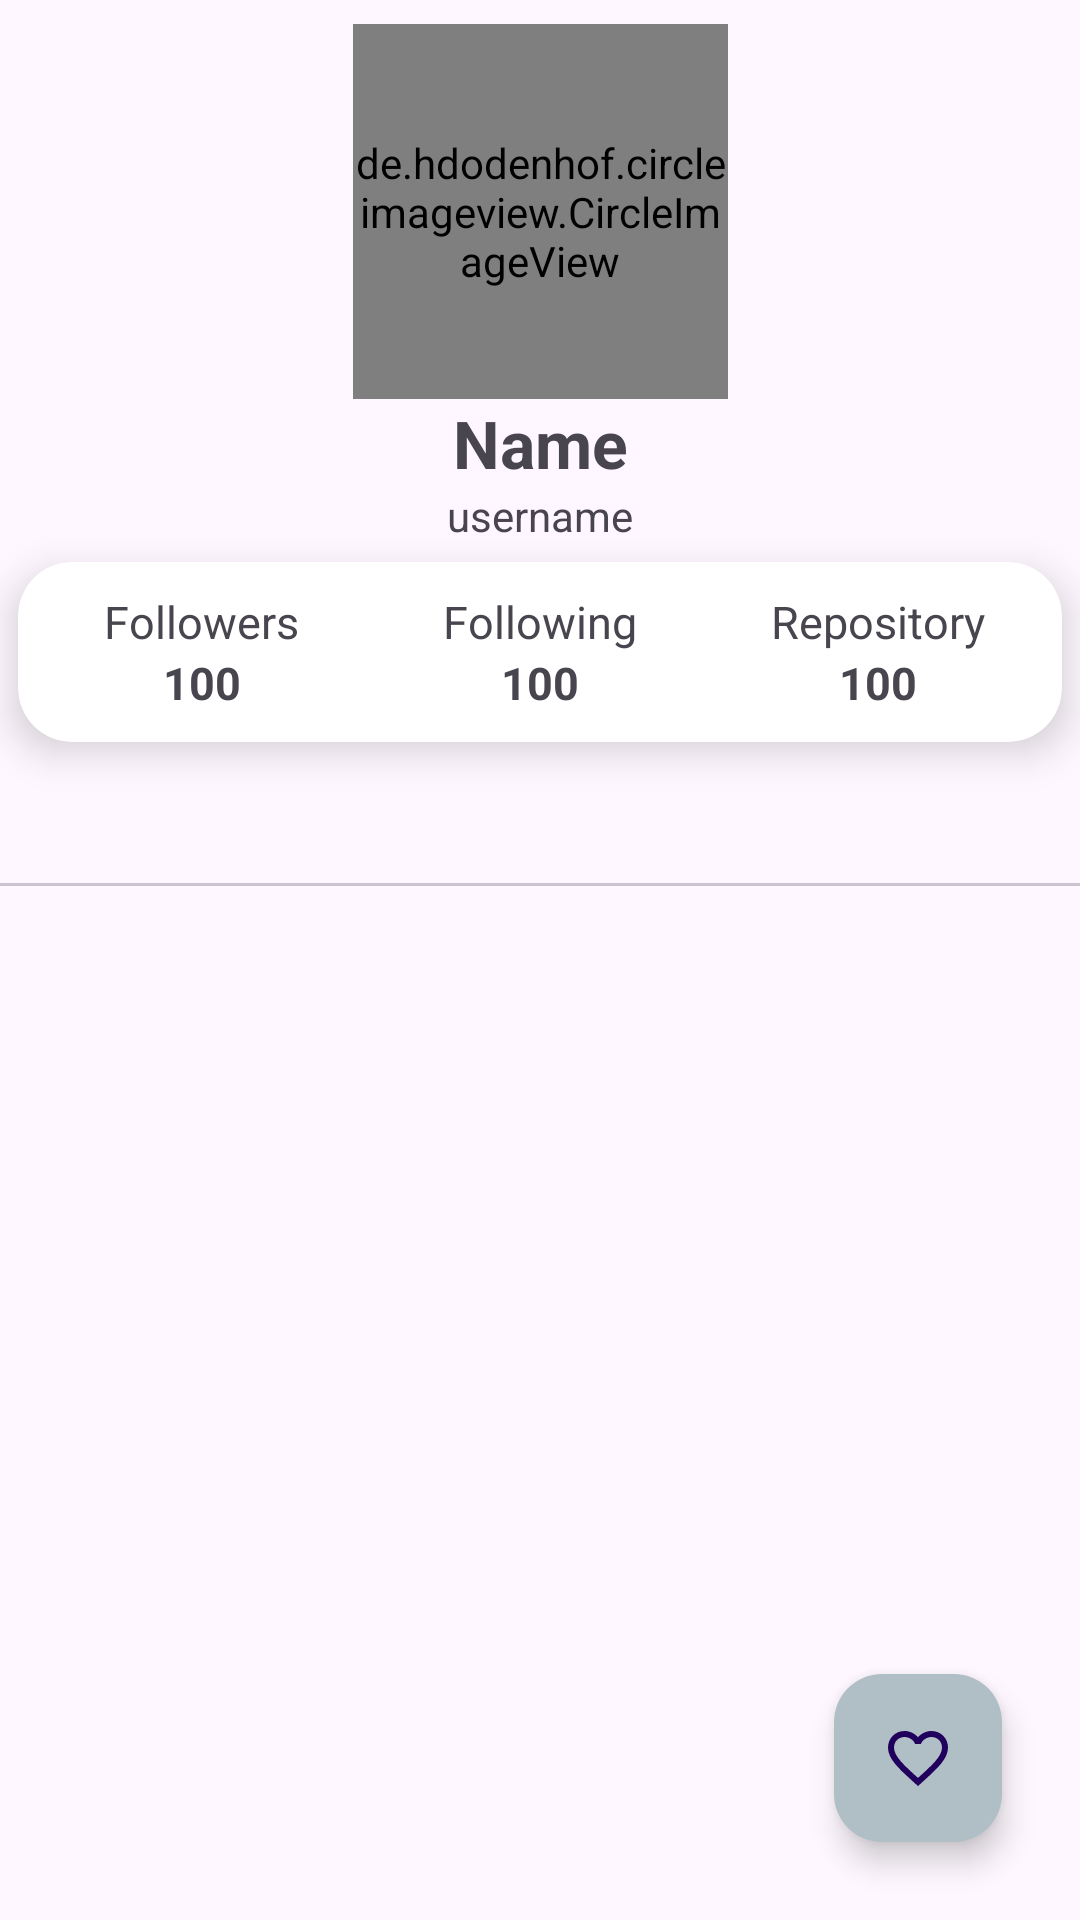

Icon bounding boxes for this 1080×1920 phone screenshot, format {"left": x1, "top": y1, "right": x2, "bottom": y2}:
favorite border: {"left": 834, "top": 1674, "right": 1002, "bottom": 1842}
